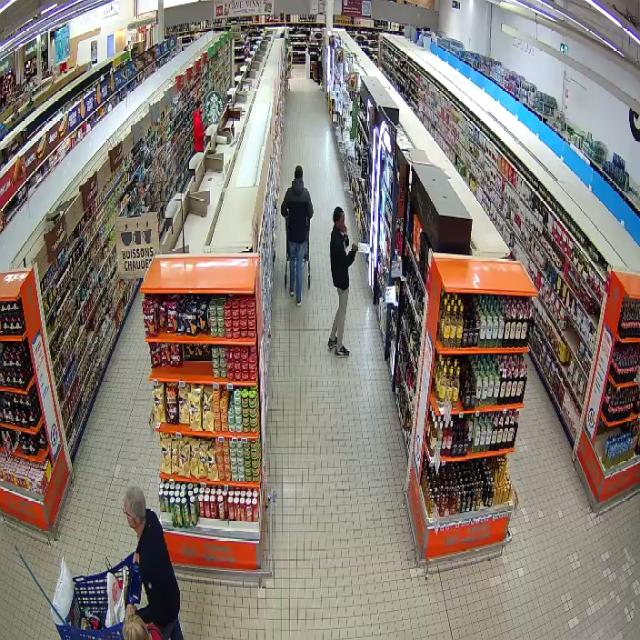article: (357, 242, 371, 254)
hands: (126, 605, 136, 615), (342, 223, 348, 236), (133, 553, 139, 564), (351, 243, 358, 252)
person: (124, 487, 183, 639), (281, 166, 313, 306), (327, 207, 357, 356)
